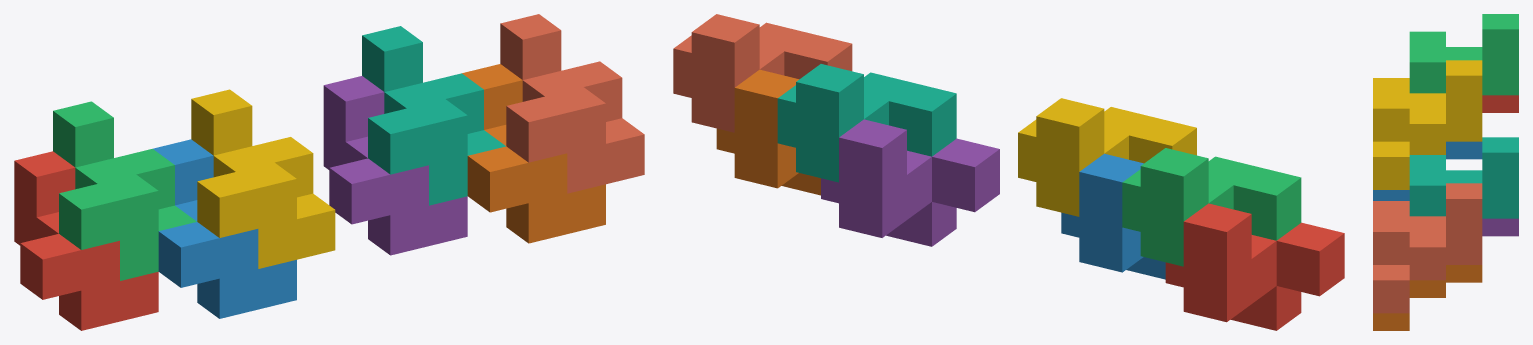
File: tiling.obj
3 views of the same model, side by side, from view 1: azimuth 30°, elevation 25°; view 2: azimuth 150°, elevation 25°; view 3: azimuth 270°, elevation 25° (orthographic). The views are drawn at different scales.
Parts seen in each view (by area): view 1: copy_1_domain_8, copy_1_domain_4, copy_1_domain_7, copy_1_domain_3, copy_1_domain_1, copy_1_domain_5, copy_1_domain_2, copy_1_domain_6; view 2: copy_1_domain_1, copy_1_domain_5, copy_1_domain_3, copy_1_domain_7, copy_1_domain_8, copy_1_domain_4, copy_1_domain_2, copy_1_domain_6; view 3: copy_1_domain_8, copy_1_domain_4, copy_1_domain_3, copy_1_domain_7, copy_1_domain_6, copy_1_domain_2, copy_1_domain_5, copy_1_domain_1.
Part boxes in pixels (left/top/right/bottom): copy_1_domain_8: left=500, top=14, right=644, bottom=193; copy_1_domain_4: left=191, top=89, right=335, bottom=268; copy_1_domain_7: left=362, top=26, right=505, bottom=205; copy_1_domain_3: left=53, top=101, right=196, bottom=280; copy_1_domain_1: left=14, top=151, right=158, bottom=330; copy_1_domain_5: left=323, top=76, right=467, bottom=255; copy_1_domain_2: left=153, top=139, right=296, bottom=318; copy_1_domain_6: left=462, top=64, right=605, bottom=243; copy_1_domain_1: left=1165, top=203, right=1344, bottom=330; copy_1_domain_5: left=821, top=119, right=999, bottom=246; copy_1_domain_3: left=1122, top=148, right=1301, bottom=266; copy_1_domain_7: left=777, top=64, right=956, bottom=182; copy_1_domain_8: left=673, top=14, right=852, bottom=132; copy_1_domain_4: left=1018, top=98, right=1196, bottom=216; copy_1_domain_2: left=1061, top=153, right=1165, bottom=279; copy_1_domain_6: left=716, top=69, right=820, bottom=195; copy_1_domain_8: left=1373, top=183, right=1482, bottom=313; copy_1_domain_4: left=1373, top=60, right=1482, bottom=189; copy_1_domain_3: left=1409, top=14, right=1518, bottom=95; copy_1_domain_7: left=1409, top=137, right=1518, bottom=218; copy_1_domain_6: left=1373, top=265, right=1482, bottom=330; copy_1_domain_2: left=1373, top=141, right=1482, bottom=200; copy_1_domain_5: left=1482, top=218, right=1518, bottom=236; copy_1_domain_1: left=1482, top=95, right=1518, bottom=112.
Bounding box in the file's own units: 15 × 4 × 4.
